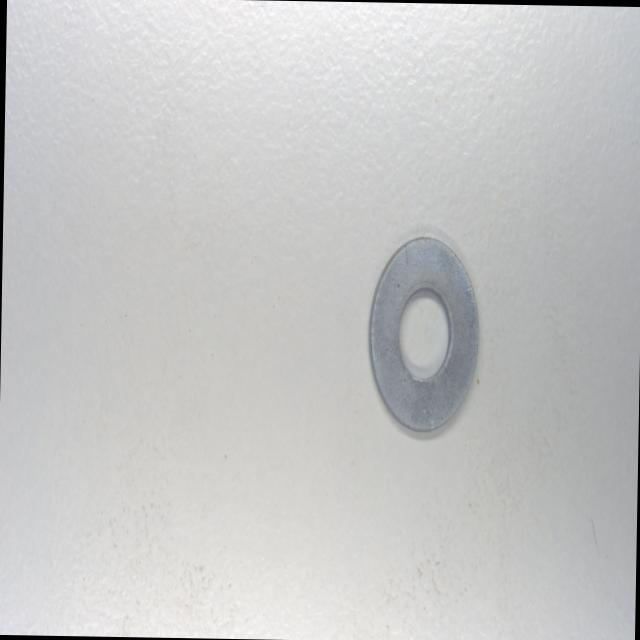washer: (365, 230, 483, 434)
